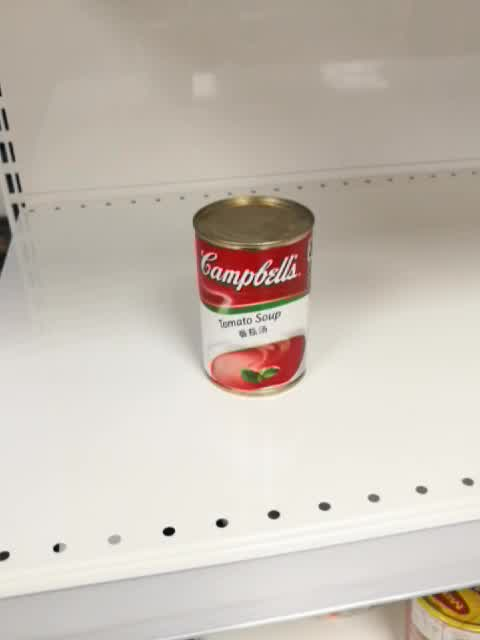tomatosoup: (190, 195, 316, 399)
